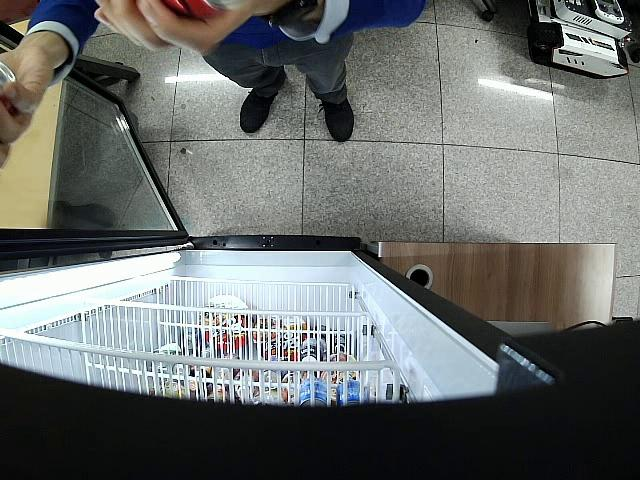00_hand: (94, 0, 272, 57), (1, 40, 62, 168)
